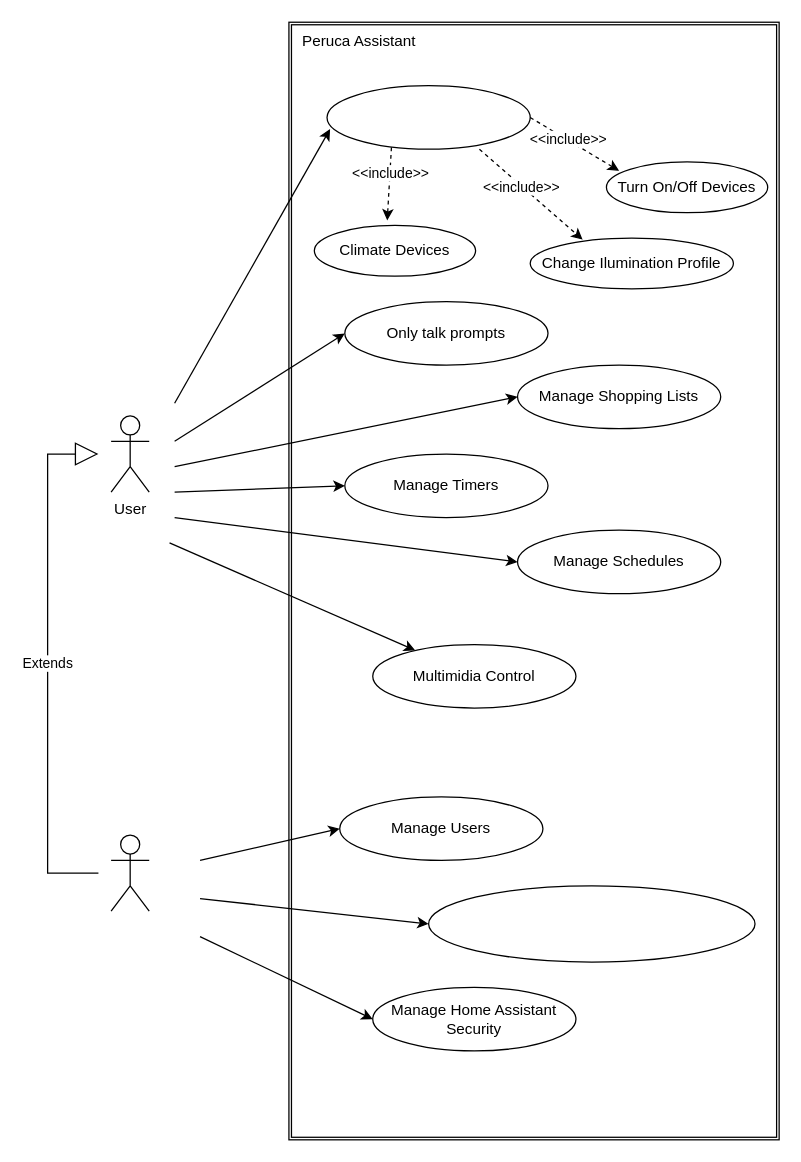
Image size: 801x1162. Some labels were removed from this diagram. The centre of each missing label's shape, as x and y in pixels:
"Admin" belongs at pixel 129 872.
"Manage Shopping List Market groups" belongs at pixel 591 923.
"Operate Home Assistant Devices" belongs at pixel 428 116.
